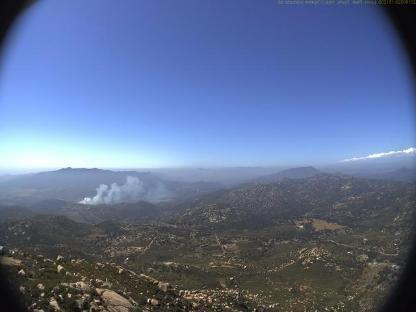smoke: (77, 172, 173, 206)
